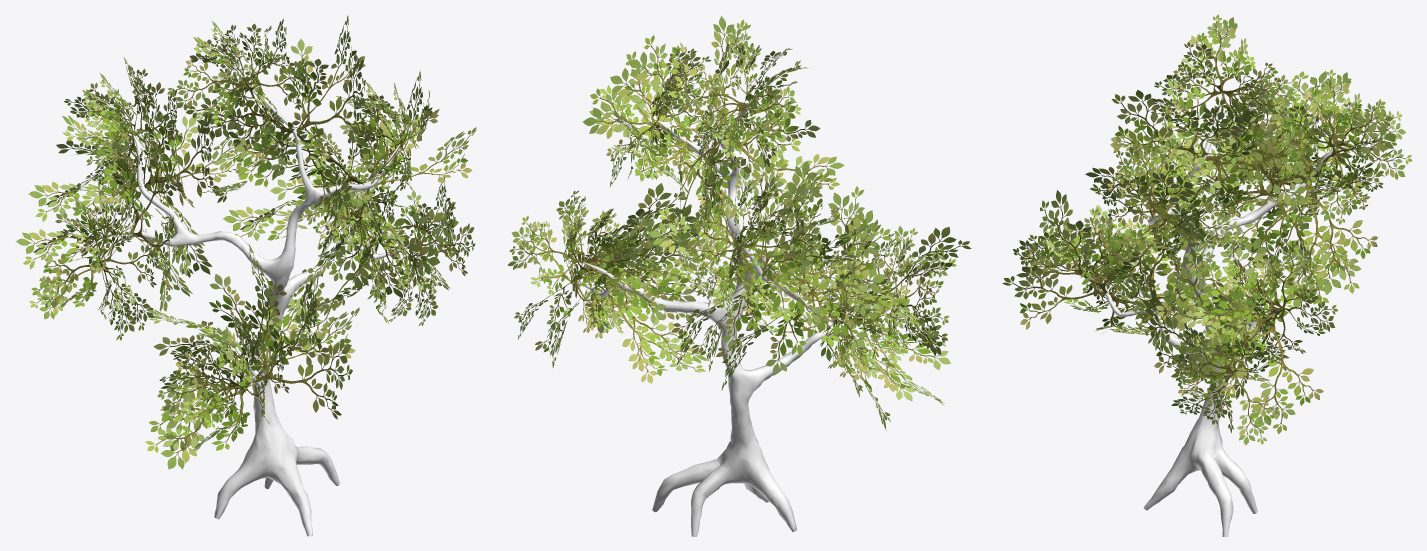
Rendered from Tree_3_1.fbx.
3 views of the same model, side by side, from view 1: azimuth 30°, elevation 25°; view 2: azimuth 150°, elevation 25°; view 3: azimuth 270°, elevation 25° (orthographic). The views are drawn at different scales.
Parts seen in each view (by area): view 1: Tree_3_1_LOD0; view 2: Tree_3_1_LOD0; view 3: Tree_3_1_LOD0.
Boxes of the visible parts, x1,y1,x2,y2 form: Tree_3_1_LOD0: [16, 15, 476, 536]; Tree_3_1_LOD0: [508, 16, 971, 536]; Tree_3_1_LOD0: [1002, 14, 1412, 536].
Size of what is drawn, in the model's own units: 417 by 478 by 380.
